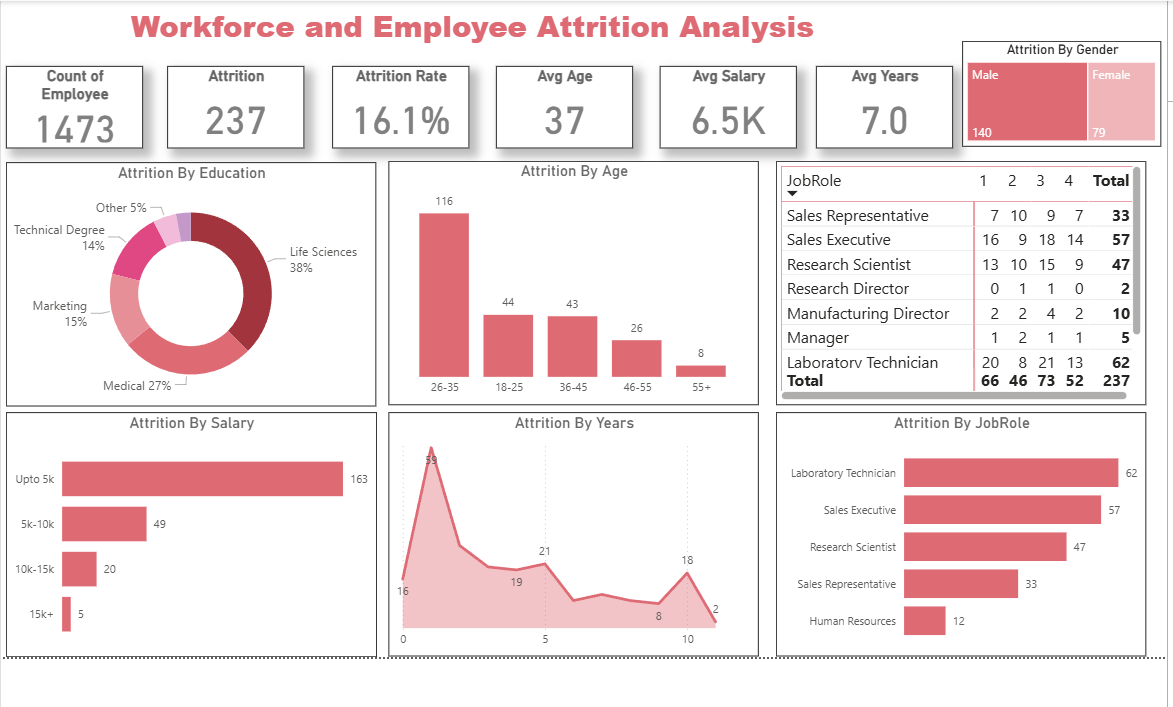

Layout of this report page (visuals, bound fields, positions):
{"tool":"powerbi","page":{"name":"Page 1","canvas":[1280,720],"ordinal":0},"visuals":[{"type":"card","title":"Count of Employee","fields":{"Values":["CountNonNull(Employee_analysis_data.EmpID)"]},"box":[5.6,71,150.5,90.6],"z":0},{"type":"card","title":"Attrition","fields":{"Values":["Sum(Employee_analysis_data.AttritionCount)"]},"box":[182.5,71,150.5,90.6],"z":1000},{"type":"card","title":"Attrition Rate","fields":{"Values":["Employee_analysis_data.AttritionRate"]},"box":[363.6,71,150.5,90.6],"z":2000},{"type":"card","title":"Avg Age","fields":{"Values":["Avg(Employee_analysis_data.Age)"]},"box":[543.3,71,150.5,90.6],"z":3000},{"type":"card","title":"Avg Salary","fields":{"Values":["Avg(Employee_analysis_data.MonthlyIncome)"]},"box":[723,71,150.5,90.6],"z":4000},{"type":"card","title":"Avg Years","fields":{"Values":["Avg(Employee_analysis_data.YearsAtCompany)"]},"box":[894.4,71,150.5,90.6],"z":5000},{"type":"donutChart","title":"Attrition By Education","fields":{"Category":["Employee_analysis_data.EducationField"],"Y":["Sum(Employee_analysis_data.AttritionCount)"]},"box":[5.6,176.4,406.5,268.2],"z":6000},{"type":"columnChart","title":"Attrition By Age","fields":{"Category":["Employee_analysis_data.AgeGroup"],"Y":["Sum(Employee_analysis_data.AttritionCount)"]},"box":[424.9,176.1,406.7,268.4],"z":7000},{"type":"pivotTable","title":"Job satisfaction based on job role","fields":{"Rows":["Employee_analysis_data.JobRole"],"Columns":["Employee_analysis_data.JobSatisfaction"],"Values":["Sum(Employee_analysis_data.AttritionCount)"]},"box":[851.2,176.1,406.7,268.4],"z":8000},{"type":"barChart","title":"Attrition By Salary","fields":{"Category":["Employee_analysis_data.SalarySlab"],"Y":["Sum(Employee_analysis_data.AttritionCount)"]},"box":[5.5,451.2,406.9,268.5],"z":9000},{"type":"barChart","title":"Attrition By JobRole","fields":{"Category":["Employee_analysis_data.JobRole"],"Y":["Sum(Employee_analysis_data.AttritionCount)"]},"box":[851.2,451.5,406.7,268.4],"z":10000},{"type":"areaChart","title":"Attrition By Years","fields":{"Category":["Employee_analysis_data.YearsAtCompany"],"Y":["Sum(Employee_analysis_data.AttritionCount)"]},"box":[424.9,451.5,406.7,268.4],"z":11000},{"type":"treemap","title":"Attrition By Gender","fields":{"Group":["Employee_analysis_data.Gender"],"Values":["Sum(Employee_analysis_data.AttritionCount)"]},"box":[1054.7,44.3,218.7,116.3],"z":12000},{"type":"textbox","box":[80.3,0,873.4,60.9],"z":13000}]}

Visuals, with their boxes in screenshot pixels (x1, y1, x2, y2):
"Count of Employee" card: 8:64:144:146
"Attrition" card: 168:64:304:146
"Attrition Rate" card: 332:64:468:146
"Avg Age" card: 494:64:630:146
"Avg Salary" card: 656:64:792:146
"Avg Years" card: 811:64:947:146
"Attrition By Education" donutChart: 8:159:375:402
"Attrition By Age" columnChart: 387:159:755:402
"Job satisfaction based on job role" pivotTable: 772:159:1140:402
"Attrition By Salary" barChart: 8:408:376:650
"Attrition By JobRole" barChart: 772:408:1140:651
"Attrition By Years" areaChart: 387:408:755:651
"Attrition By Gender" treemap: 956:40:1154:145
textbox: 76:0:865:55
